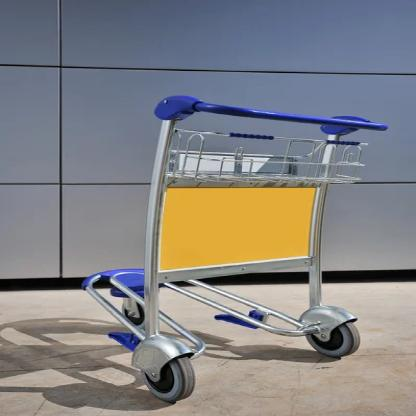airport-trolley: (68, 90, 389, 408)
